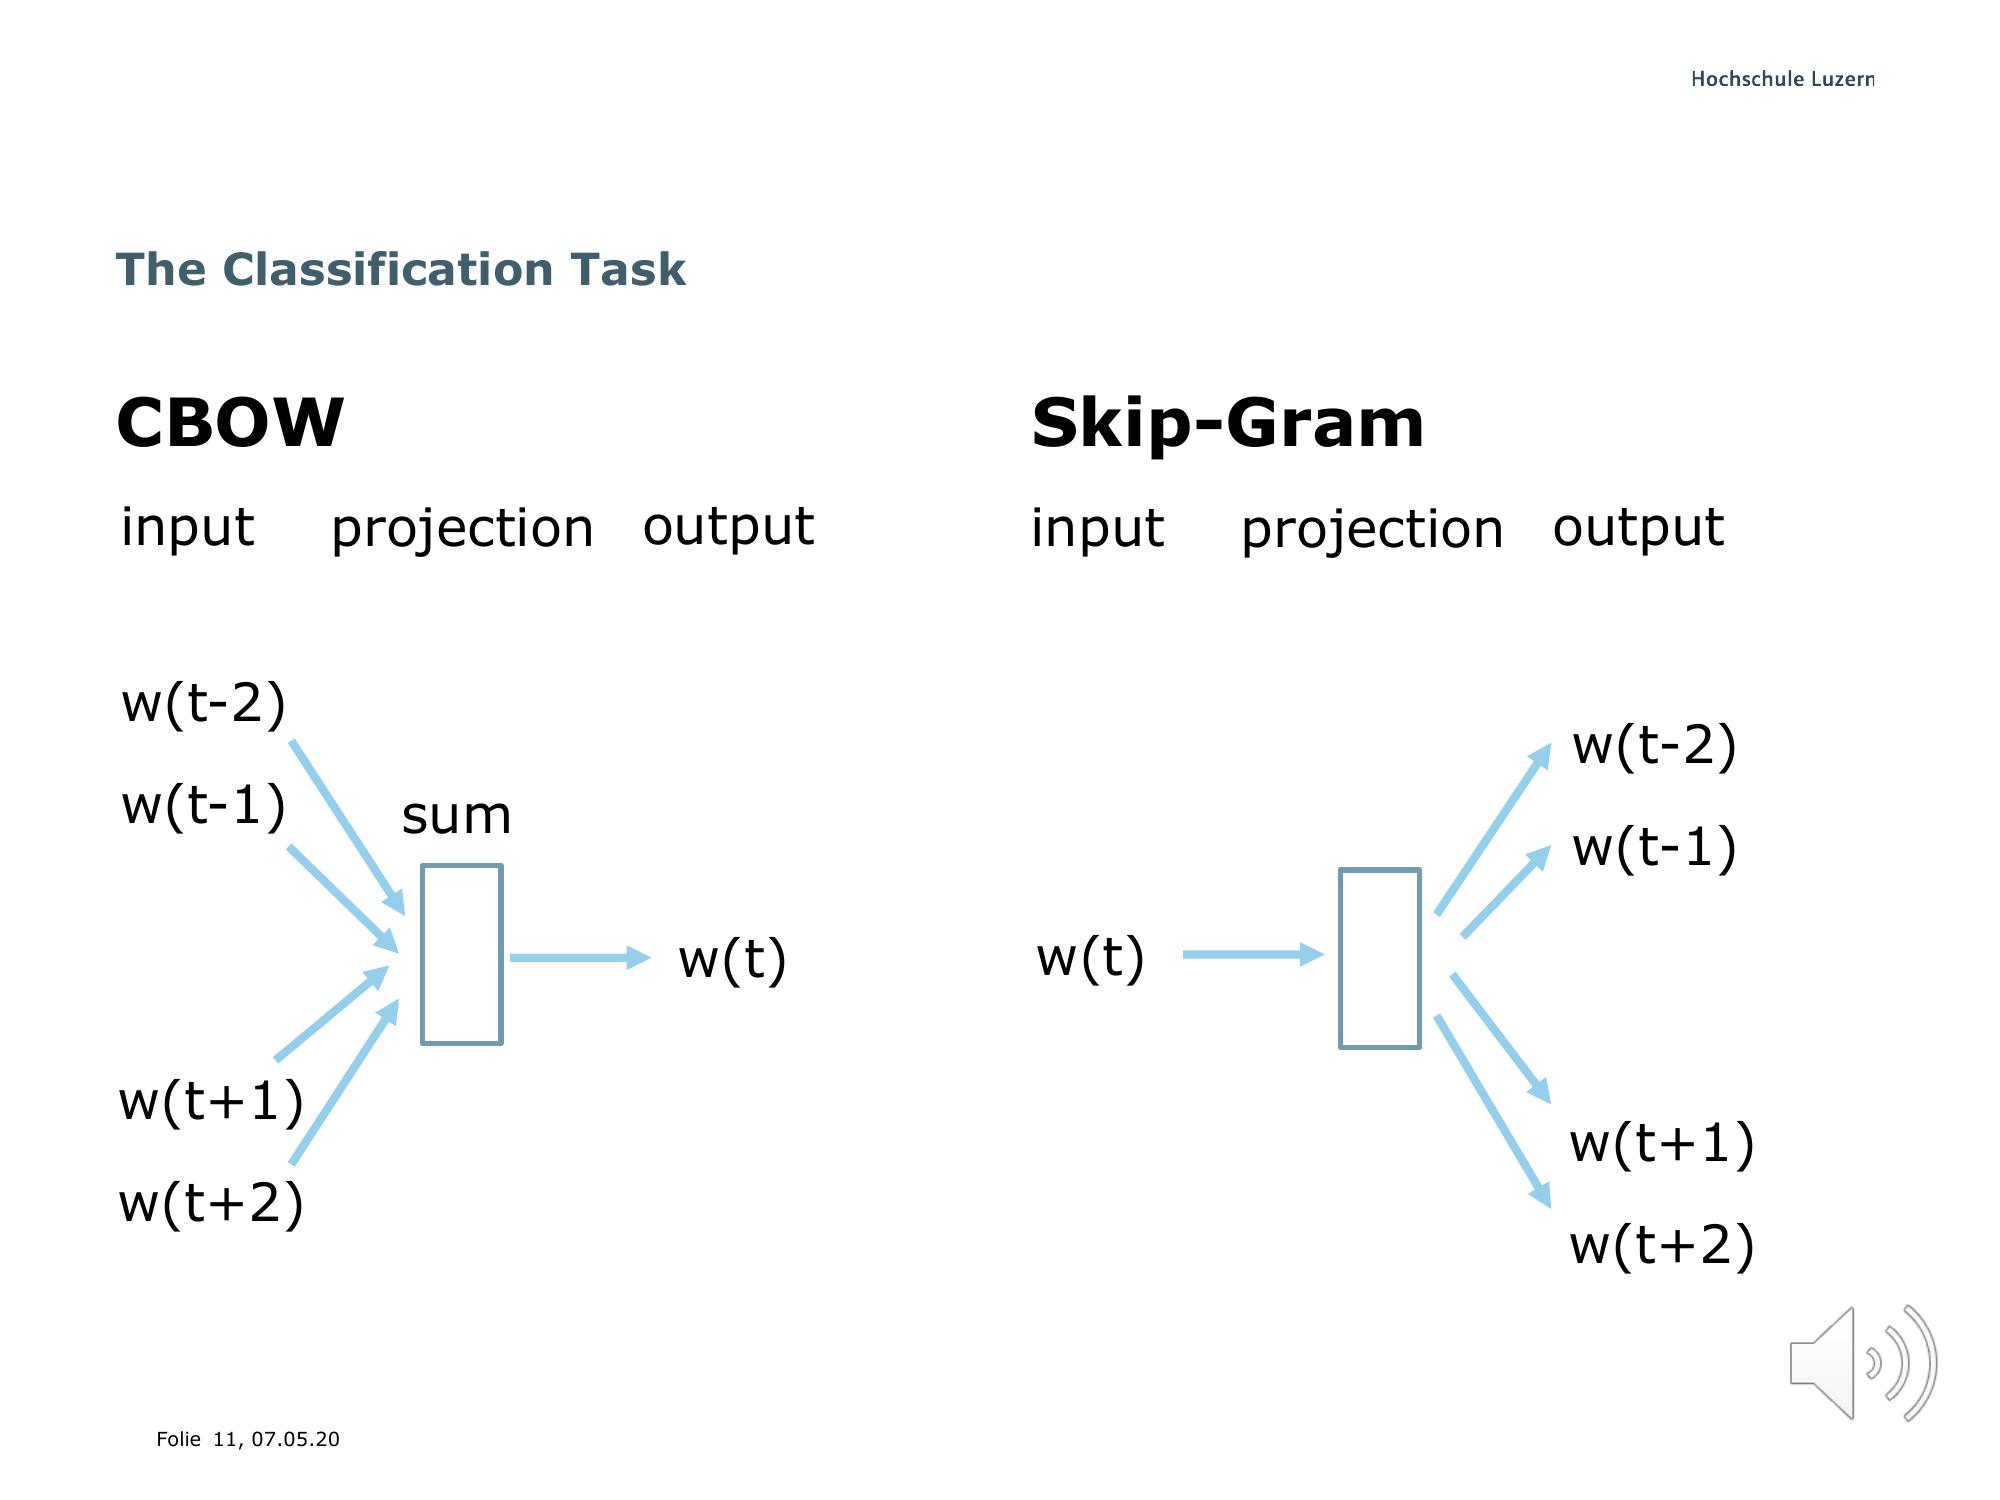Title: (104, 230, 694, 299)
